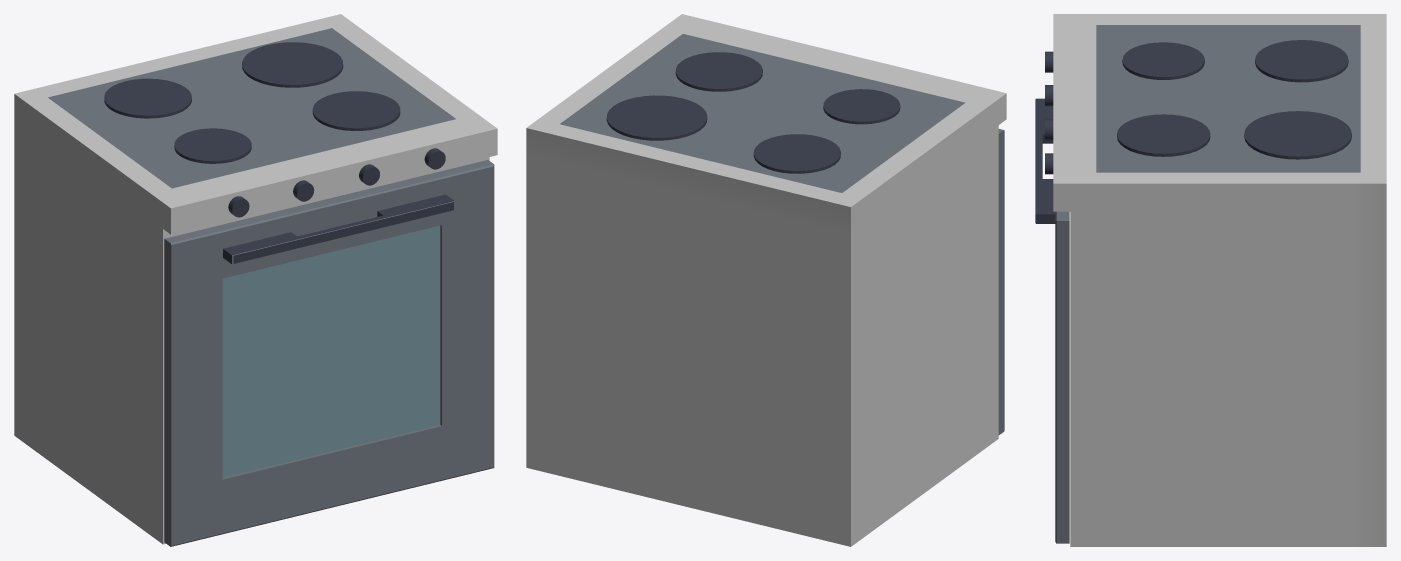
The model's file is uunii_GJ22.fbx.
3 renders of one model, left to right at view 1: azimuth 30°, elevation 25°; view 2: azimuth 150°, elevation 25°; view 3: azimuth 270°, elevation 25°, orthographic. The views are drawn at different scales.
Parts seen in each view (by area): view 1: Kaappi, Ovi; view 2: Kaappi, Ovi; view 3: Kaappi, Ovi.
Part boxes in pixels (bbox=[...]): Kaappi: bbox=[14, 14, 497, 544]; Ovi: bbox=[164, 160, 494, 546]; Kaappi: bbox=[526, 14, 1006, 546]; Ovi: bbox=[998, 129, 1004, 435]; Kaappi: bbox=[1045, 14, 1386, 546]; Ovi: bbox=[1035, 98, 1069, 543].
Size of the model in its own units: 100 by 101 by 87.57.
